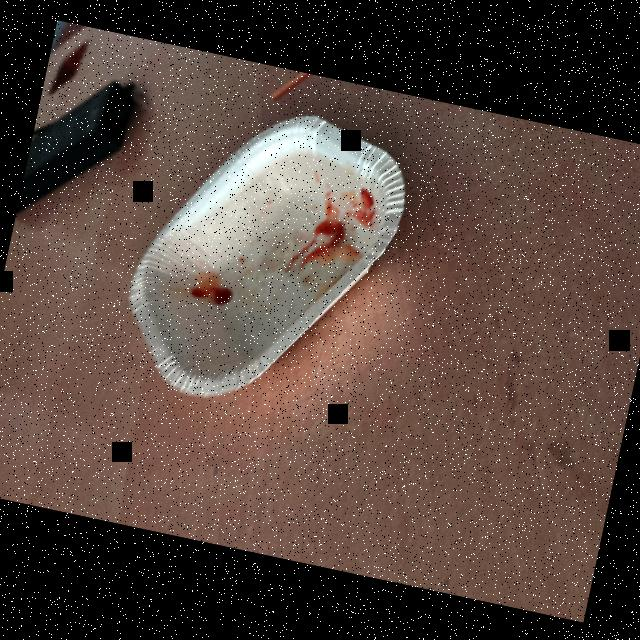cardboard_bowl: (100, 80, 420, 440)
